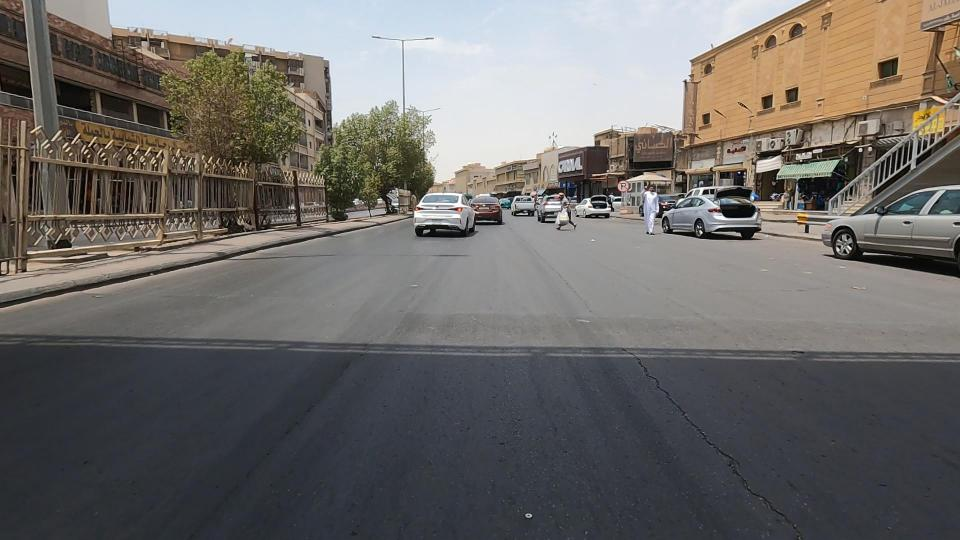BAD_BILLBOARD: (764, 93, 902, 167), (592, 115, 696, 184), (654, 127, 739, 189)
